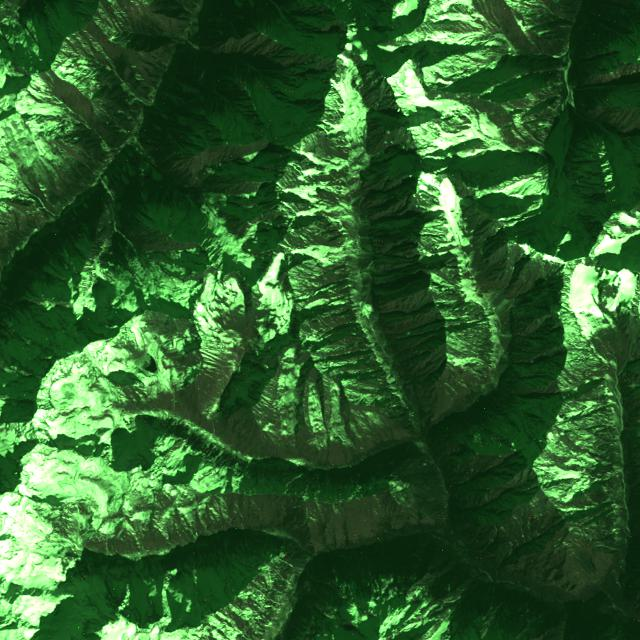landslides: (115, 228, 165, 296), (0, 302, 48, 348), (0, 330, 48, 372), (89, 568, 117, 619), (23, 309, 59, 339), (222, 537, 243, 582), (131, 576, 149, 625), (131, 320, 151, 352), (74, 610, 110, 626), (284, 466, 310, 486), (66, 617, 88, 640), (126, 579, 139, 616), (83, 55, 113, 71), (34, 509, 53, 534), (164, 379, 176, 417), (30, 574, 49, 598), (20, 572, 40, 594), (14, 340, 40, 356), (277, 558, 301, 575), (0, 185, 33, 197), (167, 453, 185, 474), (24, 107, 51, 120), (196, 544, 205, 581), (600, 420, 620, 434), (359, 437, 372, 455), (326, 252, 355, 260), (156, 581, 163, 614), (86, 40, 97, 60), (157, 491, 167, 513), (0, 373, 15, 387), (177, 581, 188, 599), (121, 347, 135, 361), (336, 215, 355, 224), (298, 543, 311, 555), (163, 456, 178, 466), (164, 460, 176, 470), (0, 382, 13, 391), (222, 457, 232, 468), (70, 601, 82, 610), (23, 166, 30, 181)
